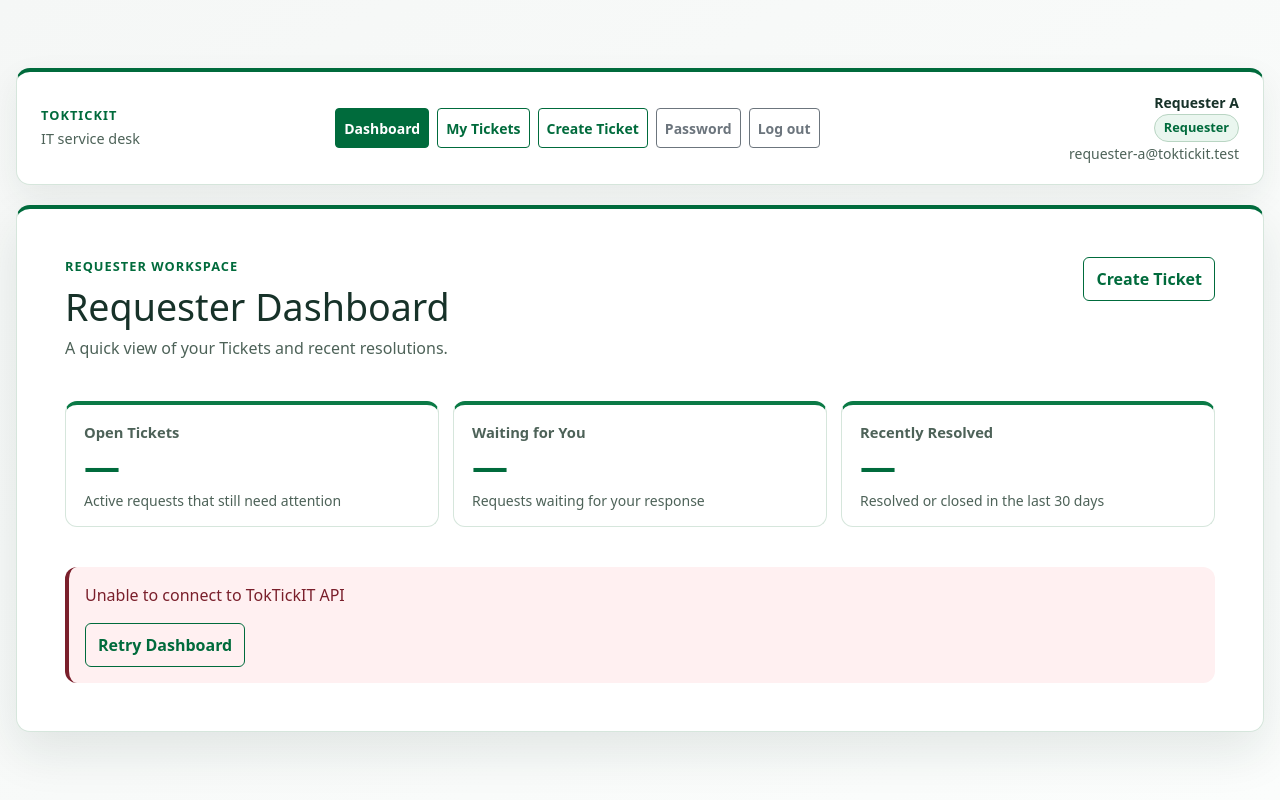
Scenario: Lab 3 authenticated application shell › keeps the authenticated shell visible when logout fails
Expected: the heading "Requester Dashboard" is shown, [65,285,450,328]
Click the button "Log out". click: (784, 128)
box: [749,108,820,148]
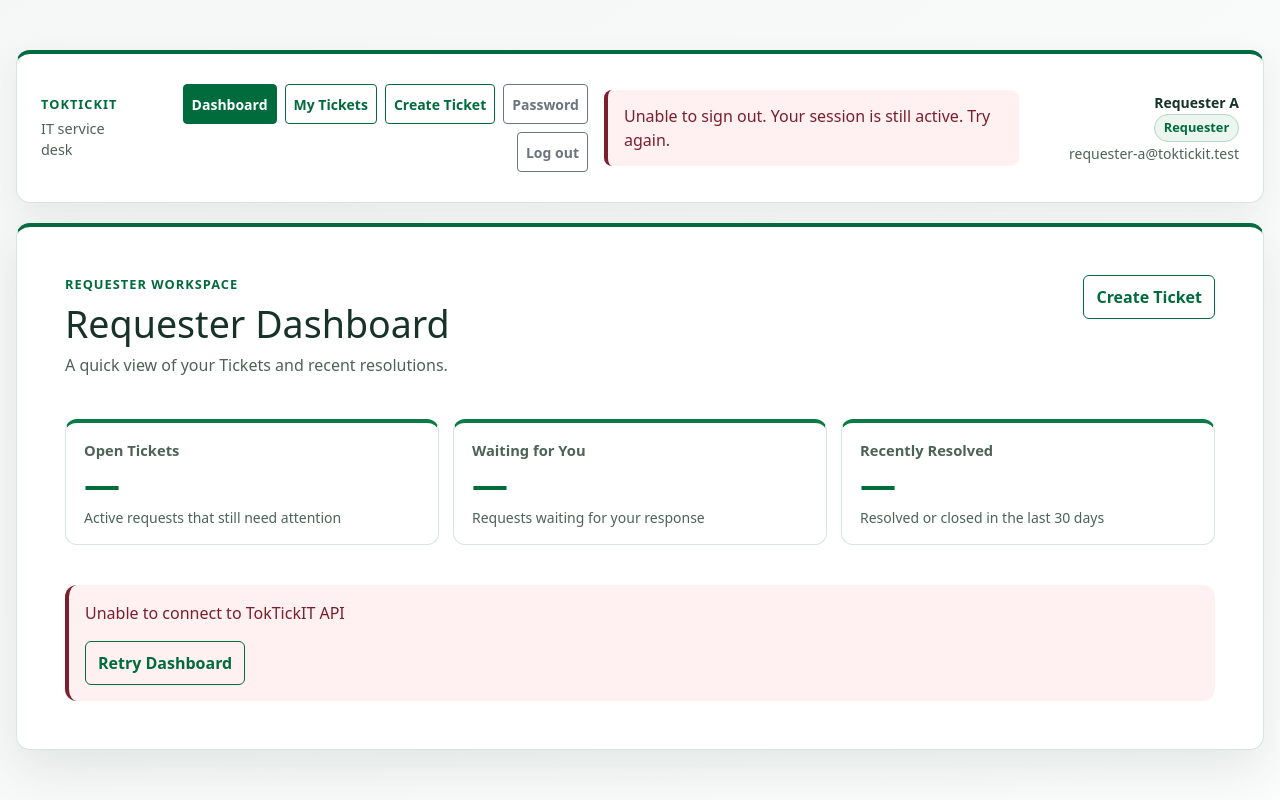
Expected: the heading "Requester Dashboard" is shown, [65,302,450,346]
Expected: the text "Unable to sign out. Your session is still active. Try again." is shown, [604,90,1019,166]
